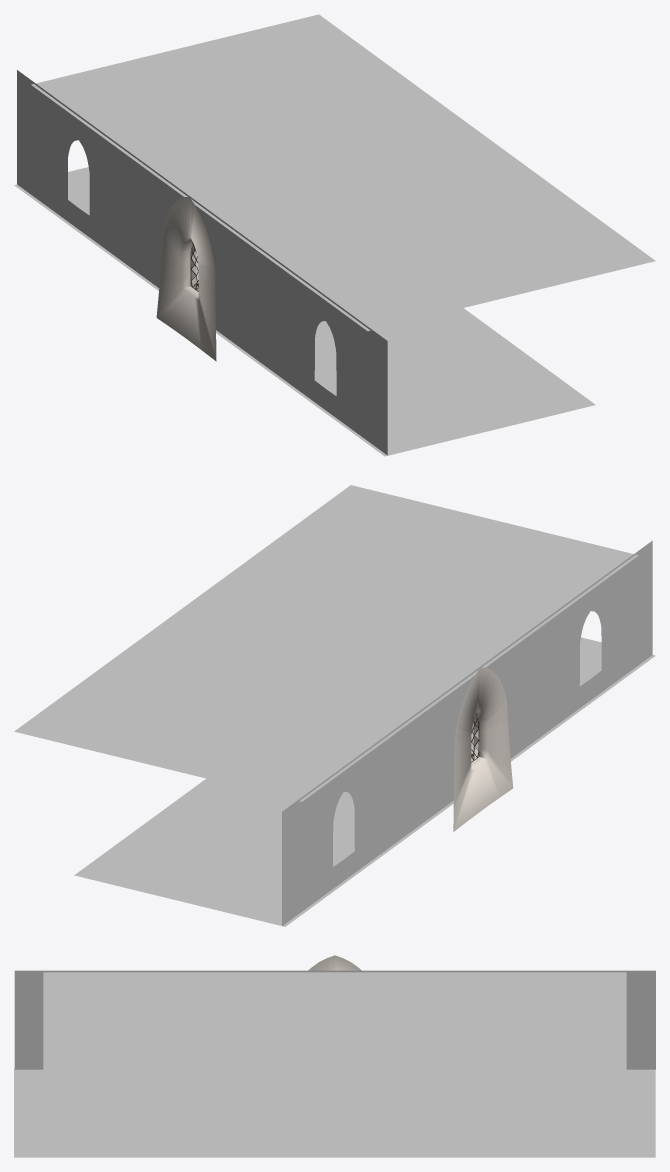
The model's file is main_enviro.fbx.
3 renders of one model, top to bottom at view 1: azimuth 30°, elevation 25°; view 2: azimuth 150°, elevation 25°; view 3: azimuth 270°, elevation 25°, orthographic. The views are drawn at different scales.
Visible parts, largest first — view 1: piso.003, pared_low.002, pared_low.001, piso.006, pared_low, marco, piso.002, piso.001, piso.004, piso; view 2: piso.003, pared_low.001, pared_low.002, piso.005, pared_low, marco, piso.001, piso.002, piso.004, piso; view 3: piso.003, piso.005, piso.004, piso.006, piso.001, piso.002, piso, pared_low.002, pared_low.001, pared_low, marco.
Part boxes in pixels (x1,y1,x2,y2): piso.003: (31,14,655,331); pared_low.002: (264,251,387,455); pared_low.001: (17,70,140,274); piso.006: (382,314,595,430); pared_low: (140,160,264,364); marco: (156,197,216,361); piso.002: (261,348,489,456); piso.001: (14,167,197,275); piso.004: (373,308,471,336); piso: (138,261,335,365); piso.003: (14,485,638,801); pared_low.001: (282,721,405,925); pared_low.002: (529,540,652,744); piso.005: (74,785,287,900); pared_low: (405,631,529,835); marco: (453,667,513,831); piso.001: (180,818,408,926); piso.002: (472,637,655,745); piso.004: (198,778,296,806); piso: (334,731,531,836); piso.003: (43,972,626,1092); piso.005: (441,1113,655,1157); piso.004: (228,1113,441,1157); piso.006: (14,1113,227,1157); piso.001: (441,1069,655,1112); piso.002: (14,1068,227,1112); piso: (228,1092,441,1112); pared_low.002: (14,970,228,1069); pared_low.001: (442,970,655,1069); pared_low: (228,970,441,972); marco: (308,955,361,970).
Size of the model in its own units: 1742 by 781 by 3699.
